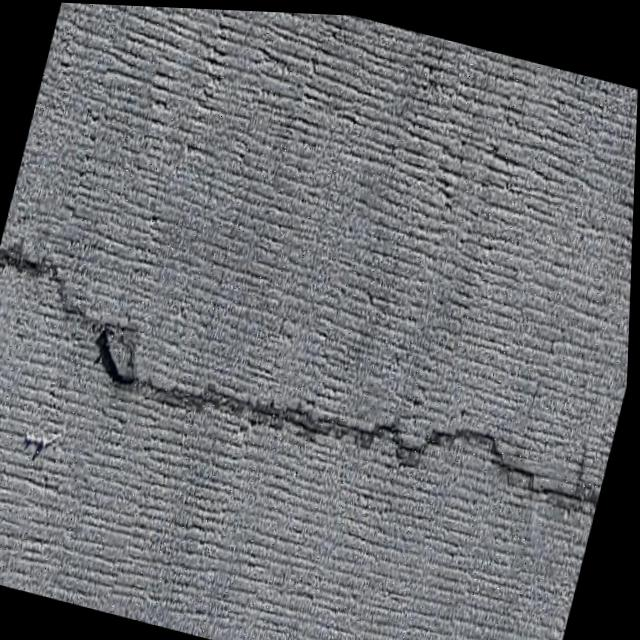Crack: (0, 222, 633, 524)
